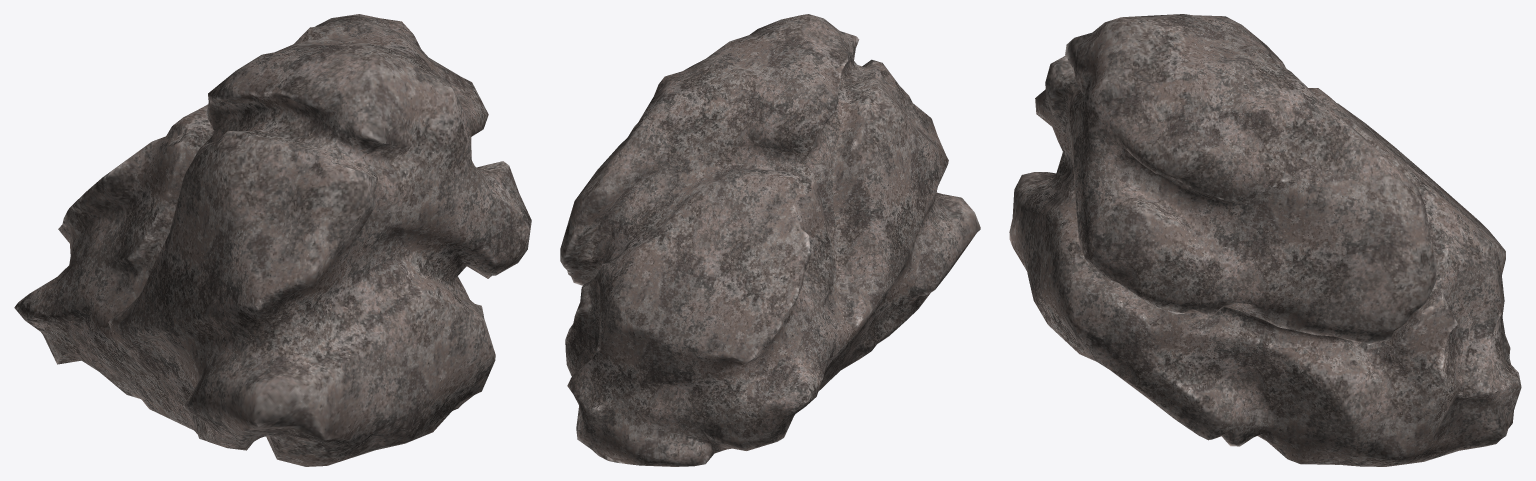
File: s__rock_01_lowpoly.glb
3 renders of one model, left to right at view 1: azimuth 30°, elevation 25°; view 2: azimuth 150°, elevation 25°; view 3: azimuth 270°, elevation 25°, orthographic. The views are drawn at different scales.
Visible parts, largest first — view 1: L_S_Rock_01; view 2: L_S_Rock_01; view 3: L_S_Rock_01.
Part boxes in pixels (box(x1,y1,x2,y2)): L_S_Rock_01: box(14, 14, 531, 466); L_S_Rock_01: box(560, 14, 980, 466); L_S_Rock_01: box(1009, 14, 1521, 466).
Bounding box in the file's own units: 1.28 × 1.62 × 1.84.
Materials: 1 (1 with a texture image).
